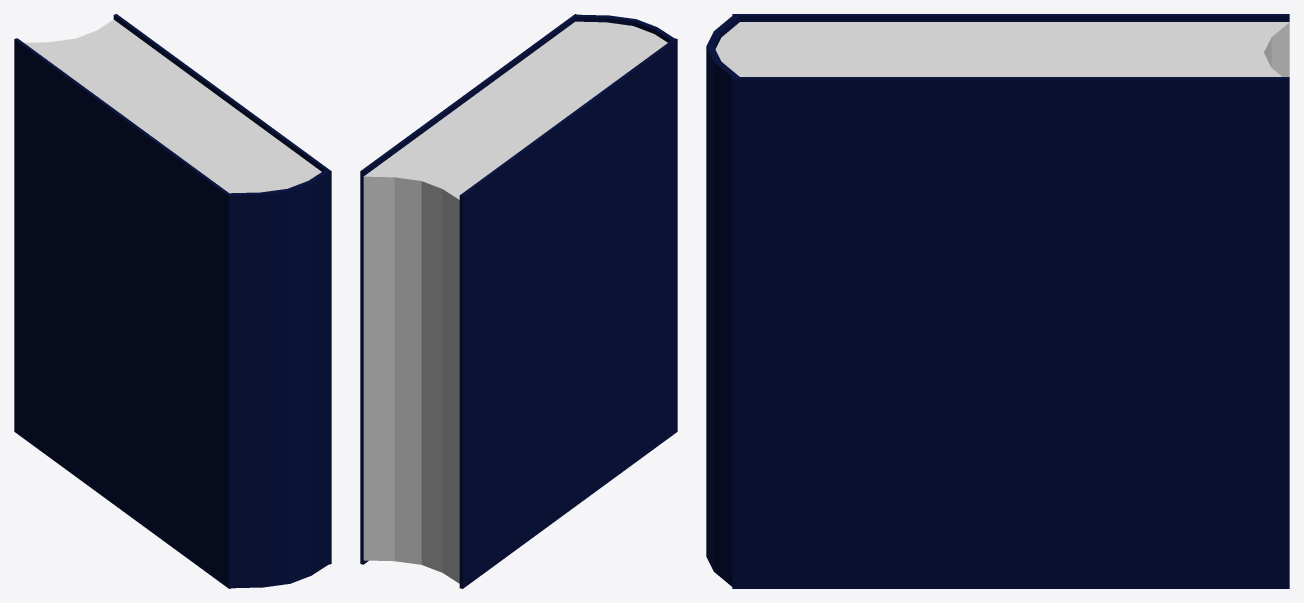
File: Book_002.fbx
The picture shows the model from 3 angles, left to right: view 1: azimuth 30°, elevation 25°; view 2: azimuth 150°, elevation 25°; view 3: azimuth 270°, elevation 25°; orthographic projection. The views are drawn at different scales.
Visible parts, largest first — view 1: book_002; view 2: book_002; view 3: book_002.
Part boxes in pixels (left/top/right/bottom): book_002: left=14, top=14, right=331, bottom=588; book_002: left=360, top=14, right=677, bottom=588; book_002: left=706, top=14, right=1289, bottom=588.
Size of the model in its own units: 8.58 by 31.45 by 32.61.
